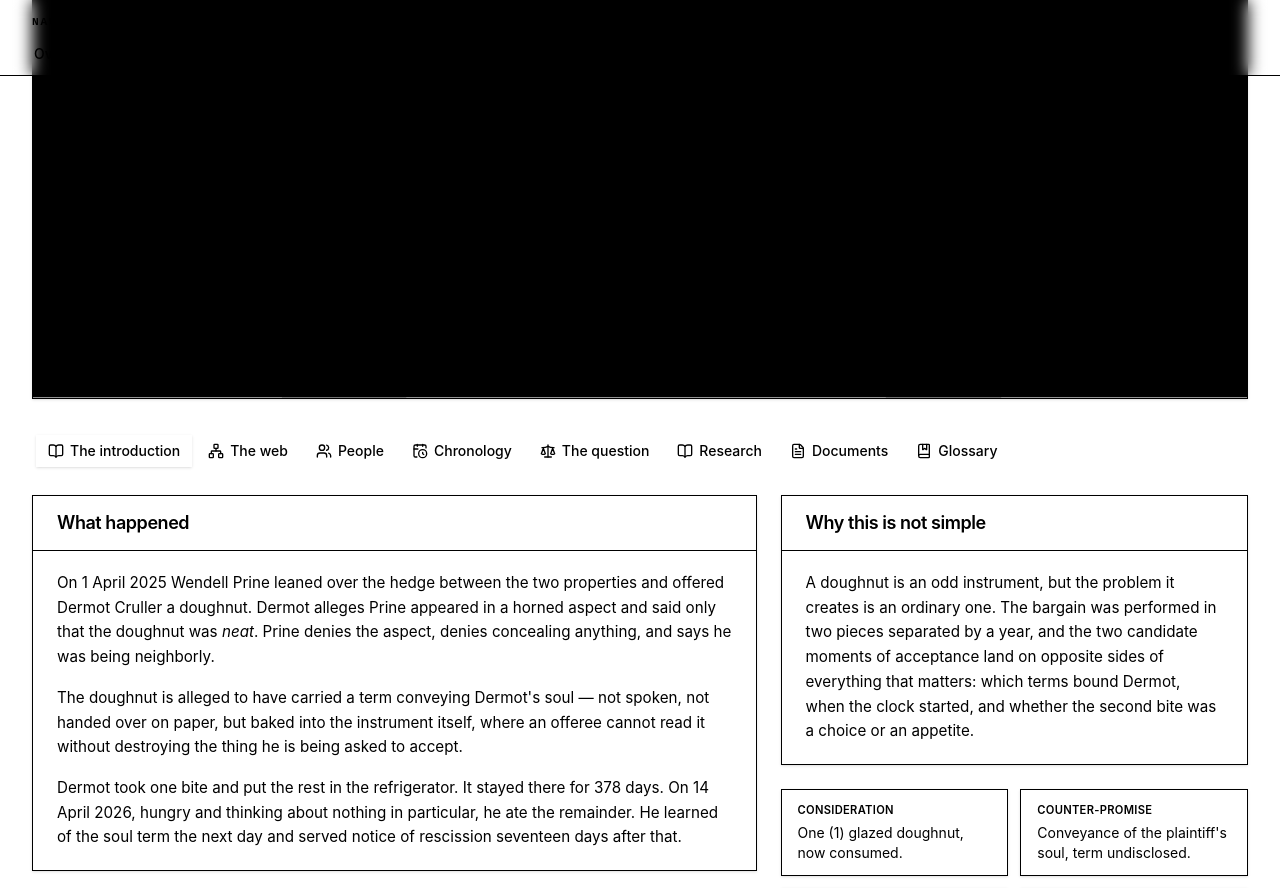
Test: the introduction to Count II › links every glossary term to the canonical entry that governs it
(page scrolled)
Click the tab "Glossary" at {"x": 957, "y": 450}, box x1=904 y1=434 x2=1010 y2=466
(page scrolled)
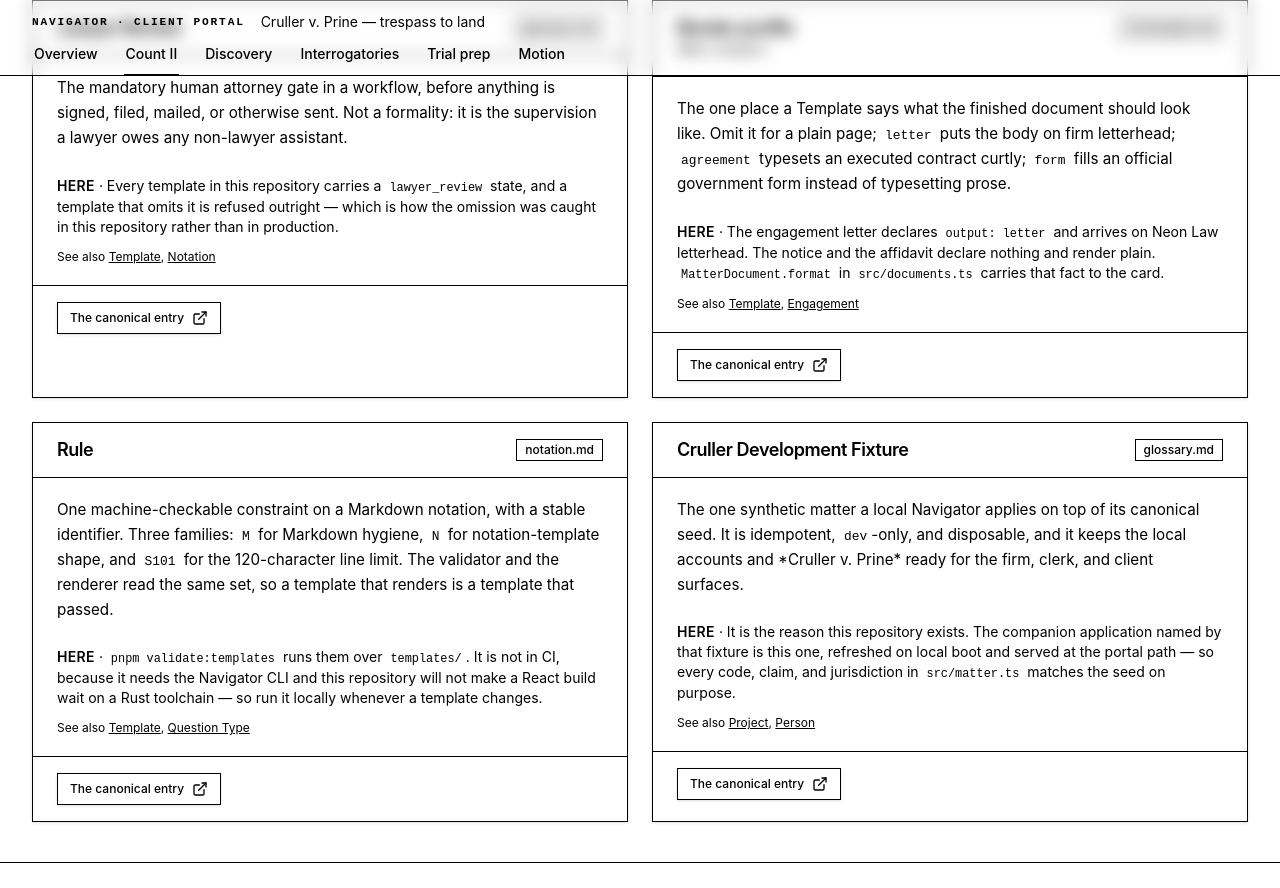
Expected: the heading "Lawyer Review" is shown, x1=57 y1=17 x2=182 y2=40
Expected: the heading "Render profile" is shown, x1=677 y1=17 x2=794 y2=40
Expected: the heading "Rule" is shown, x1=57 y1=439 x2=93 y2=461
